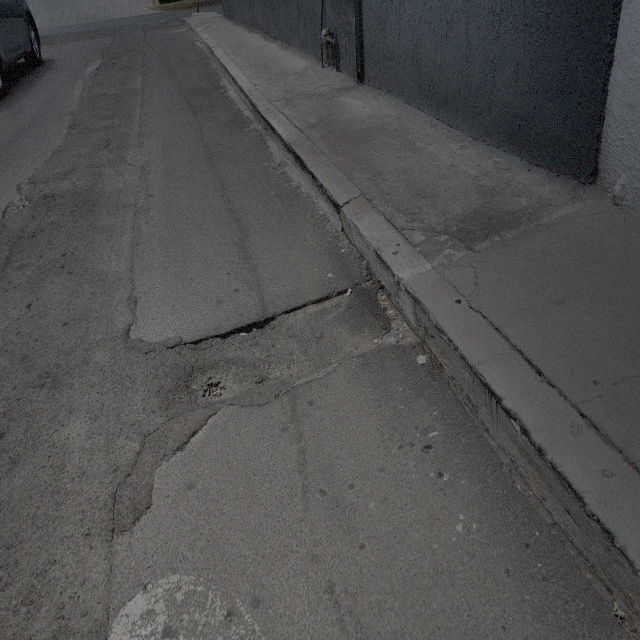pothole: (373, 289, 418, 349), (216, 310, 278, 348), (293, 286, 352, 316), (2, 189, 30, 222), (201, 378, 223, 402)
